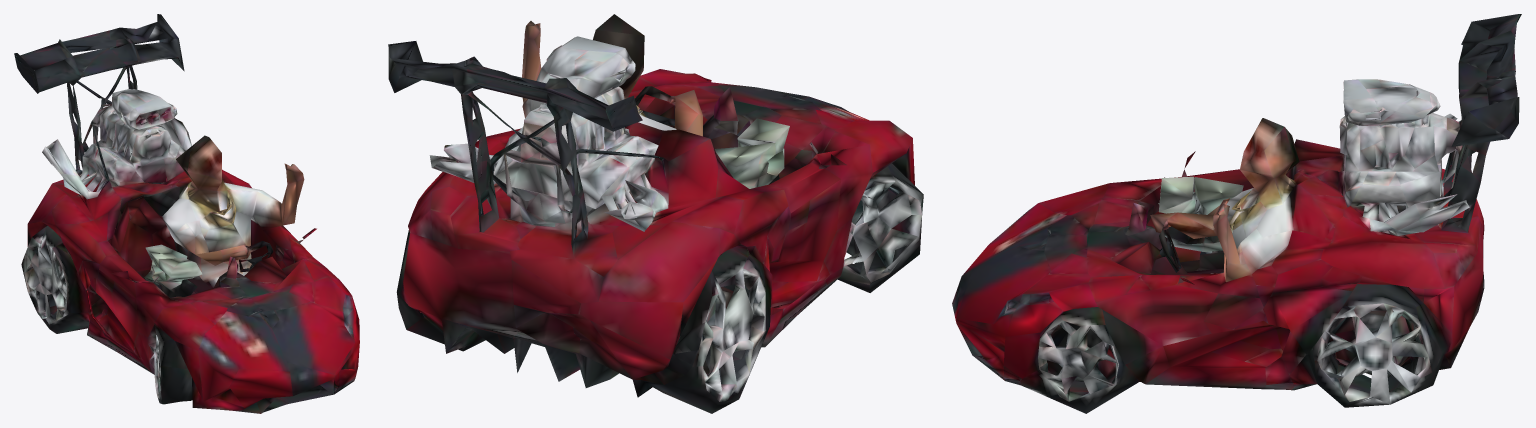
File: tjr-far.glb
3 renders of one model, left to right at view 1: azimuth 30°, elevation 25°; view 2: azimuth 150°, elevation 25°; view 3: azimuth 270°, elevation 25°, orthographic. The views are drawn at different scales.
Visible parts, largest first — view 1: tripo_node_59cb0b5d-b7d5-46eb-9751-720a9d265356; view 2: tripo_node_59cb0b5d-b7d5-46eb-9751-720a9d265356; view 3: tripo_node_59cb0b5d-b7d5-46eb-9751-720a9d265356.
Boxes of the visible parts, box(x1,y1,x2,y2) form: tripo_node_59cb0b5d-b7d5-46eb-9751-720a9d265356: box(14, 14, 359, 413); tripo_node_59cb0b5d-b7d5-46eb-9751-720a9d265356: box(388, 14, 923, 413); tripo_node_59cb0b5d-b7d5-46eb-9751-720a9d265356: box(952, 14, 1521, 413).
Size of the model in its own units: 0.5177 by 0.5759 by 0.9646.
Materials: 1 (1 with a texture image).
